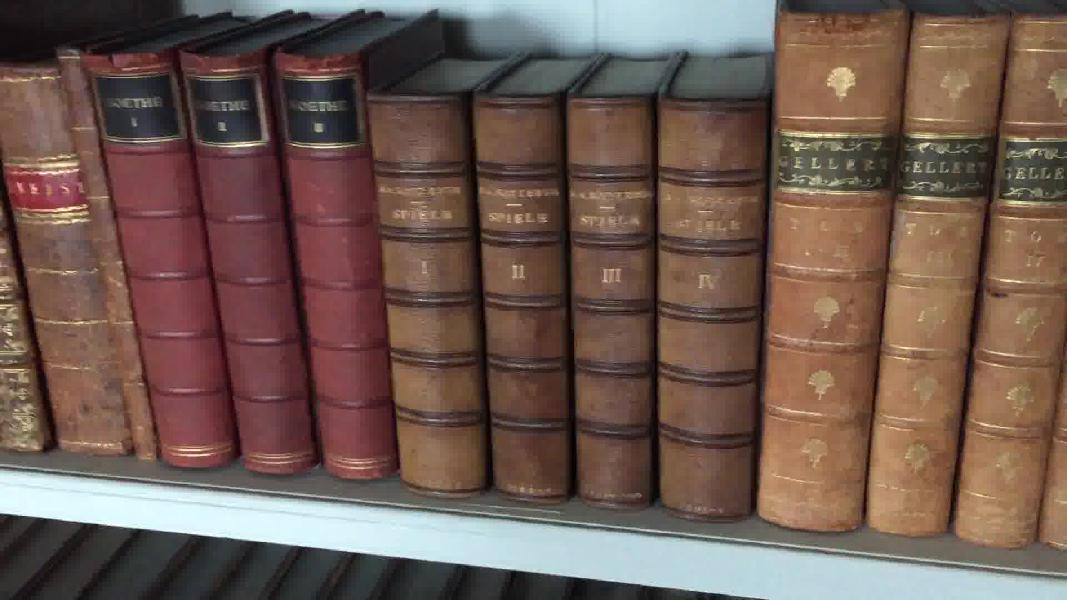Aa6-10: (48, 32, 158, 461)
Aa6-11_13: (78, 36, 406, 494)
Aa6-14_17: (354, 74, 761, 525)
Aa6-18_23: (763, 8, 1067, 562)
Aa6-9: (2, 55, 138, 457)
